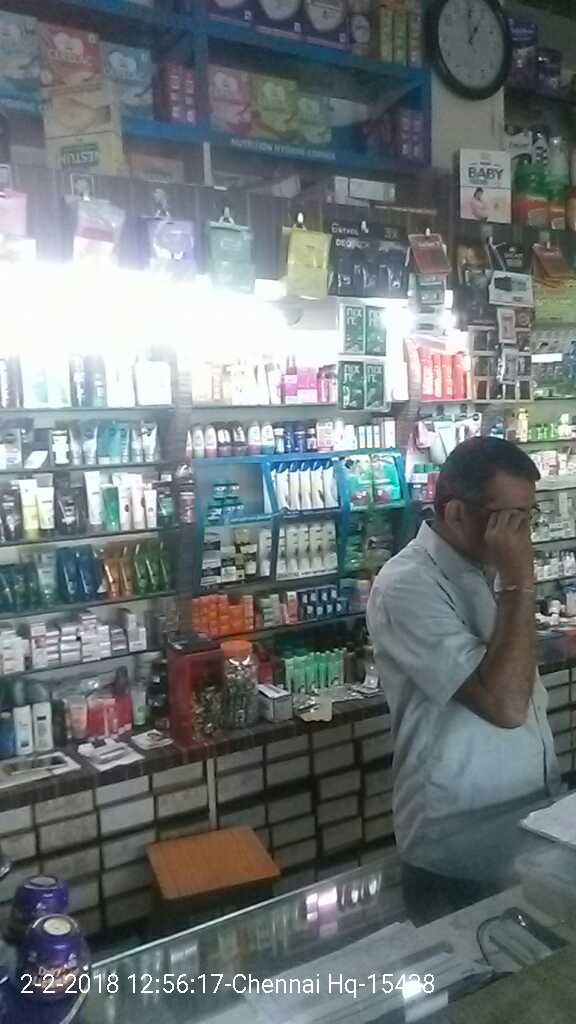vicks: (188, 472, 262, 529)
